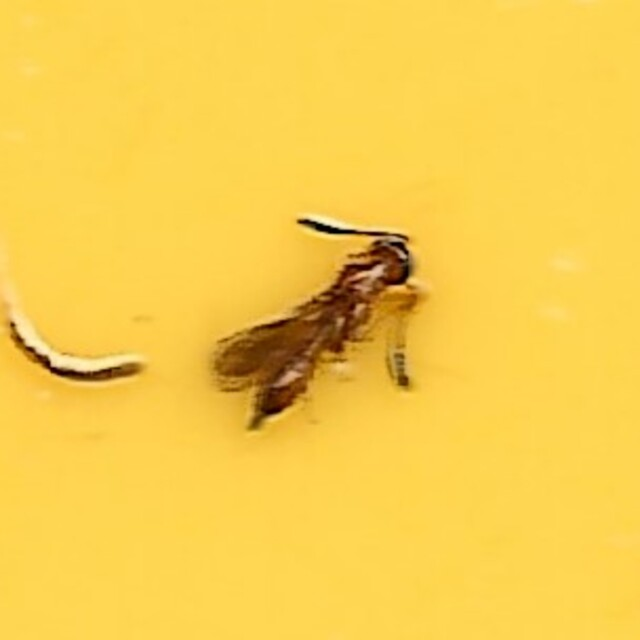Hymenoptera: (211, 205, 429, 435)
